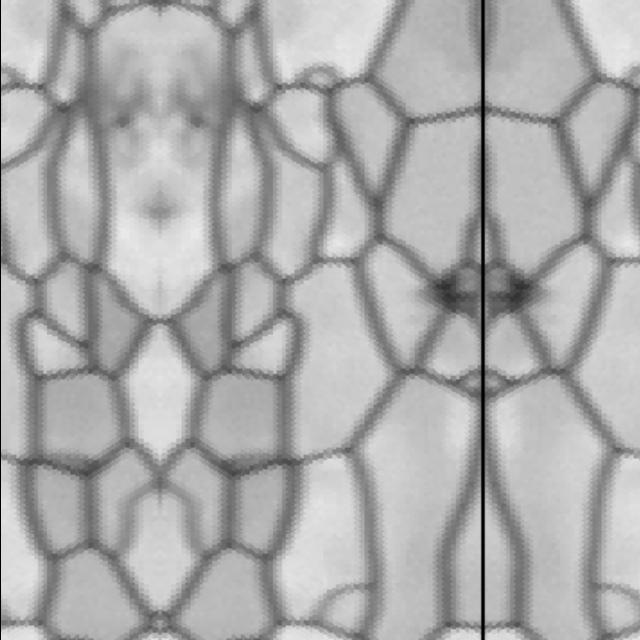good_void: (158, 31, 302, 173), (14, 31, 158, 173), (408, 258, 482, 322), (482, 258, 555, 322)
